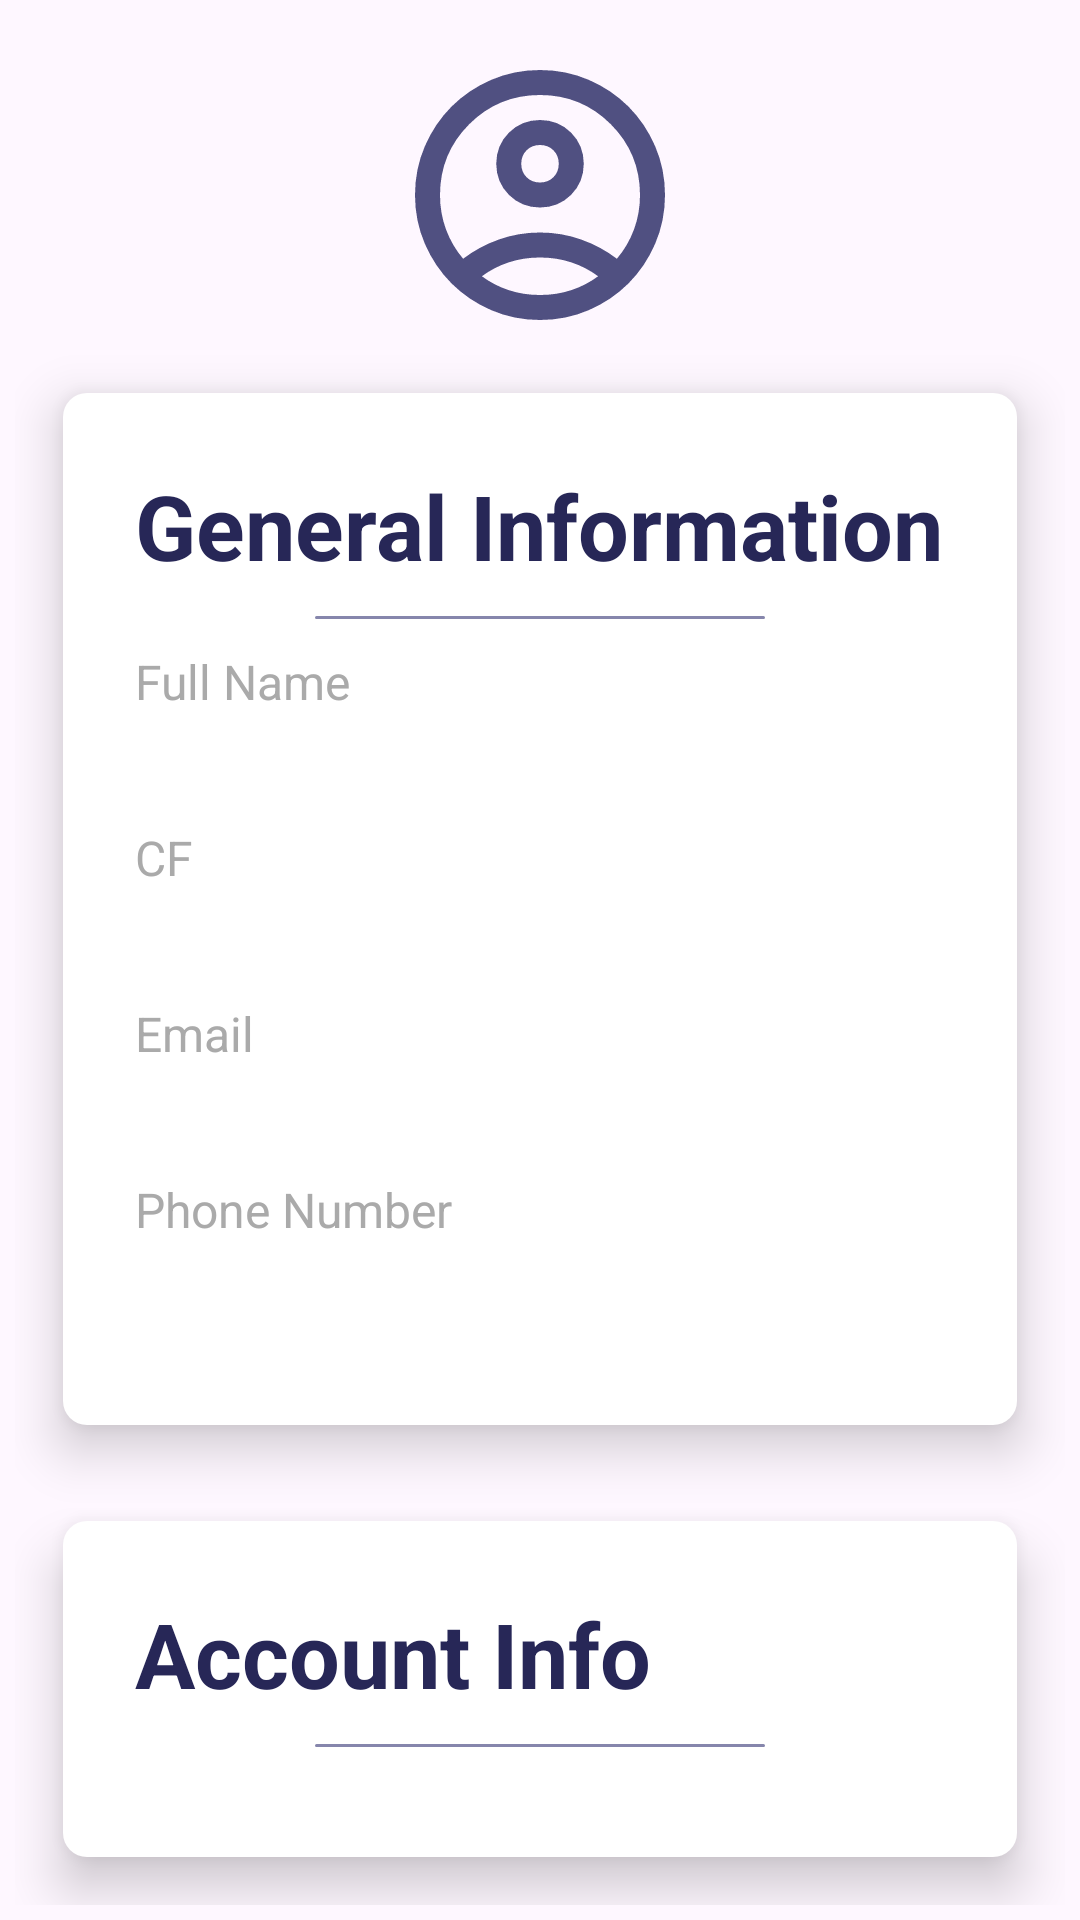

Where icons sit on this 1080px×1920px app screen, as (x1, y1, x2, y2):
Profile picture: (415, 70, 665, 320)
